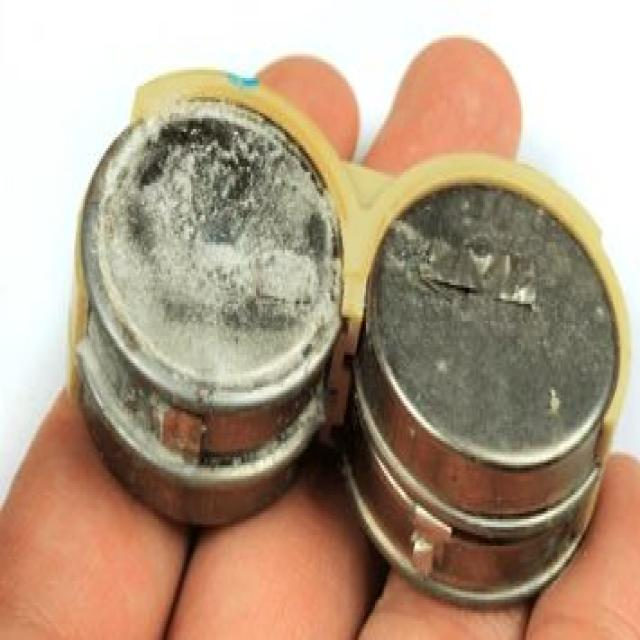electronic: (346, 76, 634, 615)
